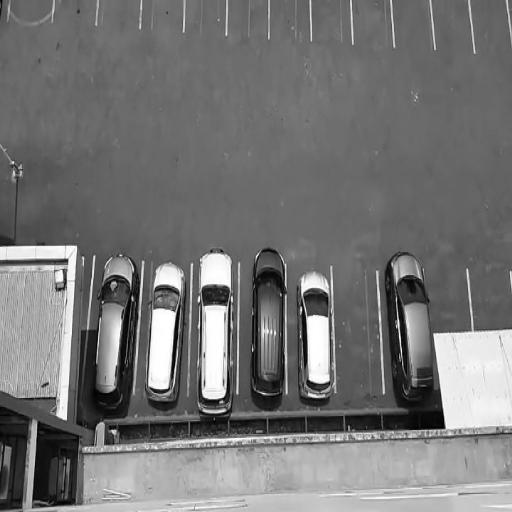Car: (382, 244, 436, 422), (195, 237, 239, 428), (91, 255, 141, 409), (142, 259, 190, 408), (249, 240, 287, 414), (294, 262, 336, 414)
Space Available: (334, 265, 384, 402), (426, 258, 472, 330), (474, 270, 510, 326), (394, 0, 432, 50), (435, 1, 471, 52), (474, 2, 507, 54), (270, 0, 309, 42), (354, 2, 390, 47), (313, 1, 351, 42), (228, 1, 268, 38), (187, 1, 225, 36), (142, 0, 182, 33), (10, 0, 50, 26), (55, 0, 94, 26), (100, 0, 138, 26)
